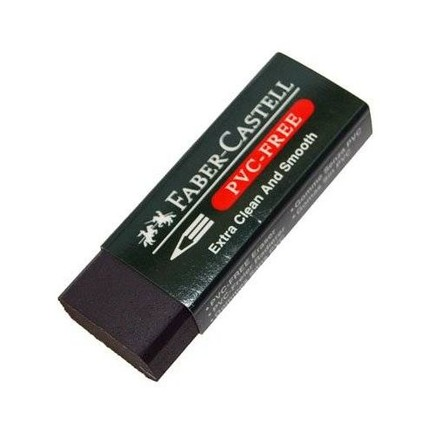eraser: (50, 45, 380, 383)
